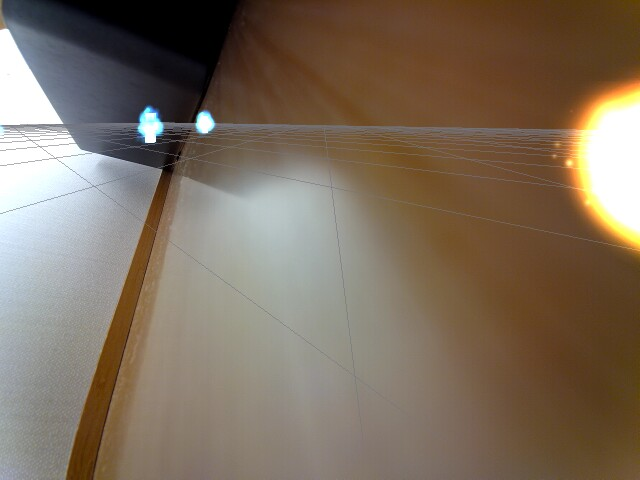firebig: (551, 70, 640, 263)
